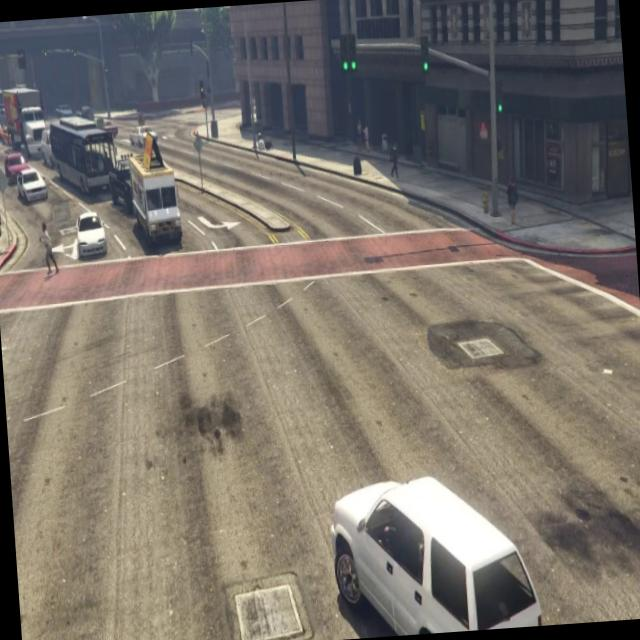Green-Signal: (328, 14, 368, 94), (482, 66, 513, 134), (412, 20, 439, 94)
